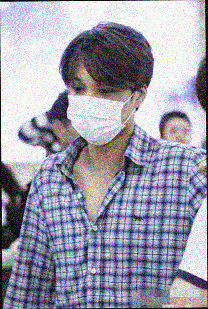with_mask: (68, 73, 138, 143)
